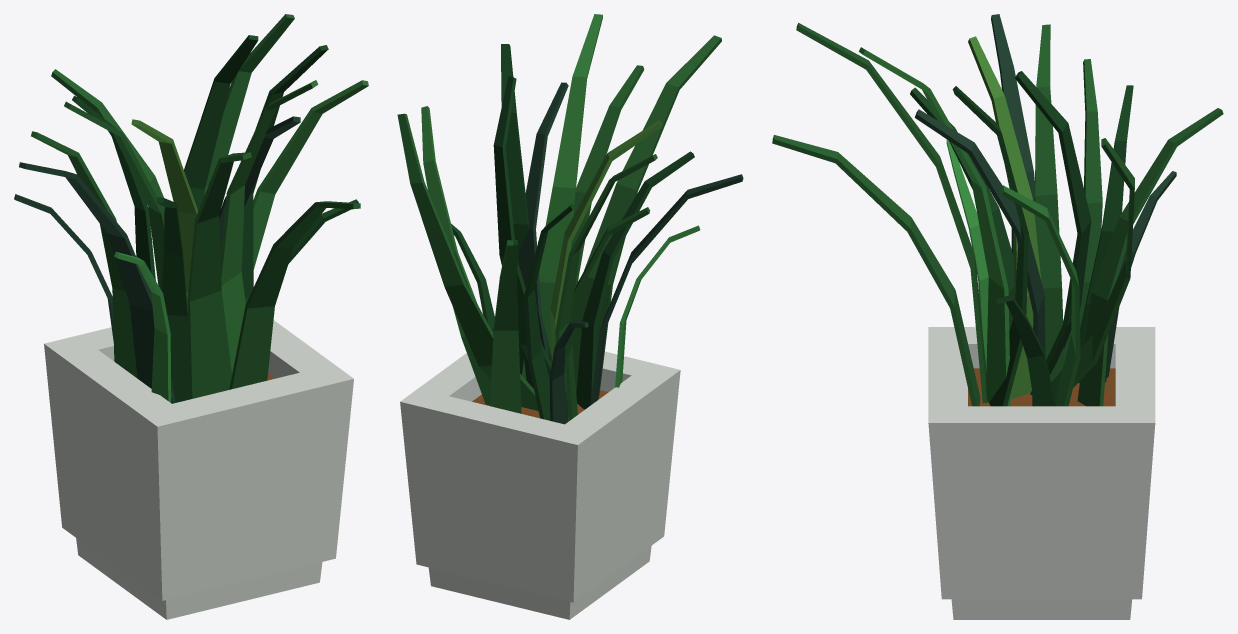
Rendered from Puzzle03_Plant3.glb.
The picture shows the model from 3 angles, left to right: view 1: azimuth 30°, elevation 25°; view 2: azimuth 150°, elevation 25°; view 3: azimuth 270°, elevation 25°; orthographic projection. The views are drawn at different scales.
Visible parts, largest first — view 1: Puzzle03_Plant3; view 2: Puzzle03_Plant3; view 3: Puzzle03_Plant3.
Boxes of the visible parts, <box> form: Puzzle03_Plant3: <box>14,14,368,619</box>; Puzzle03_Plant3: <box>397,14,743,619</box>; Puzzle03_Plant3: <box>772,14,1223,619</box>.
Size of the model in its own units: 1.3 by 1.93 by 1.45.
Materials: 1 (1 with a texture image).
